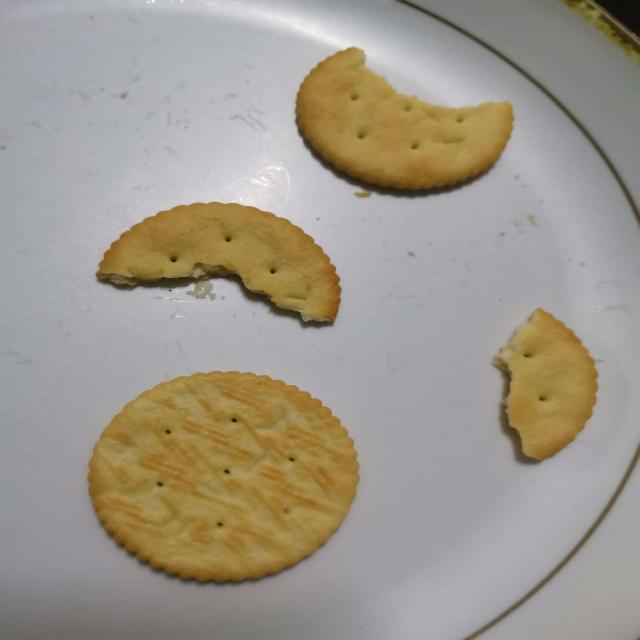broken biscuit: (293, 45, 515, 192), (94, 200, 343, 324), (486, 303, 604, 481)
intact biscuit: (86, 368, 362, 584)
